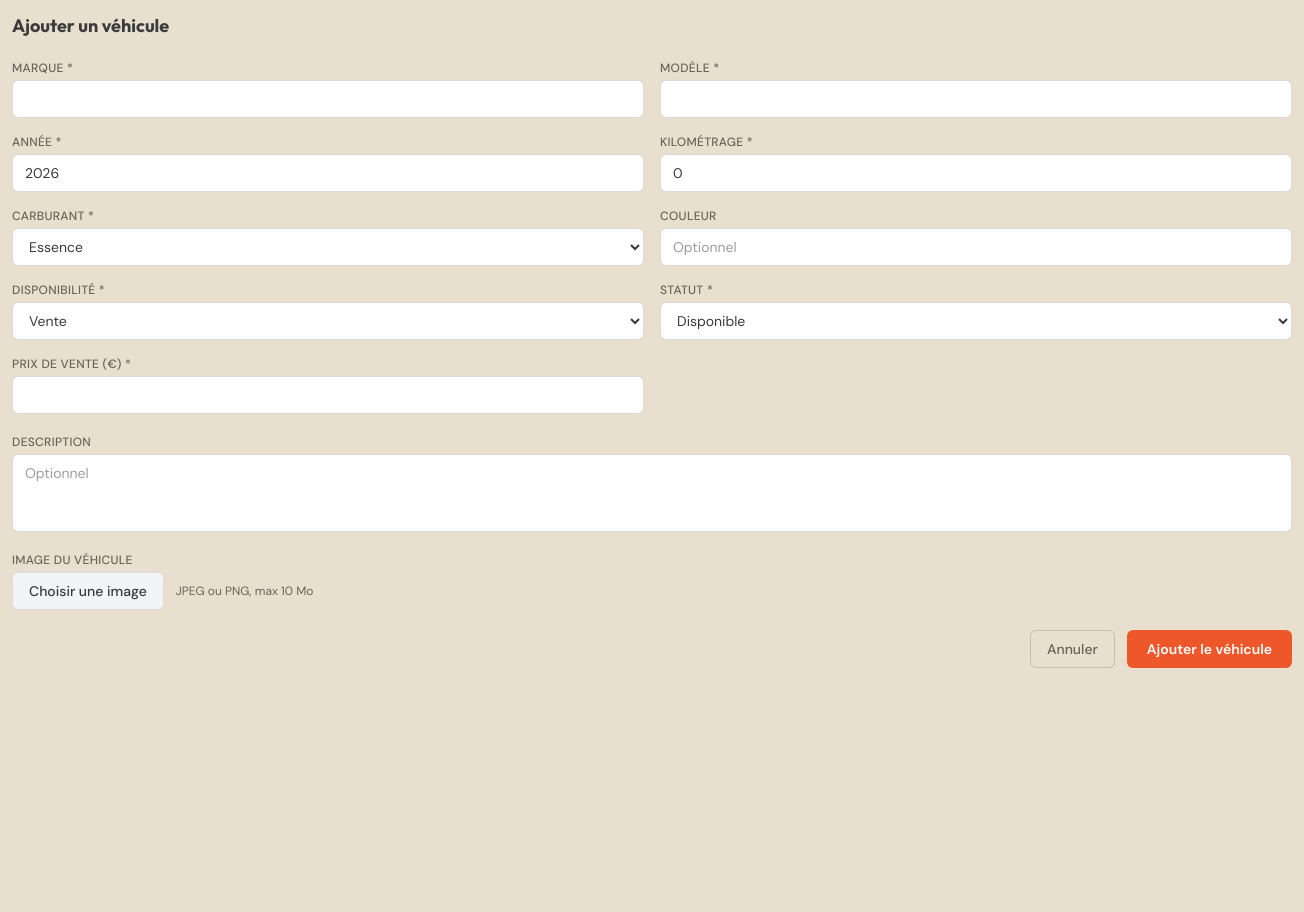
VehicleForm — mode création › affiche rentalPriceMonthly et masque salePrice quand RENTAL sélectionné
Select "Location" in the dropdown showing "Vente" below "Disponibilité *" at (328, 321), box top-left (12, 302), bottom-right (644, 340)
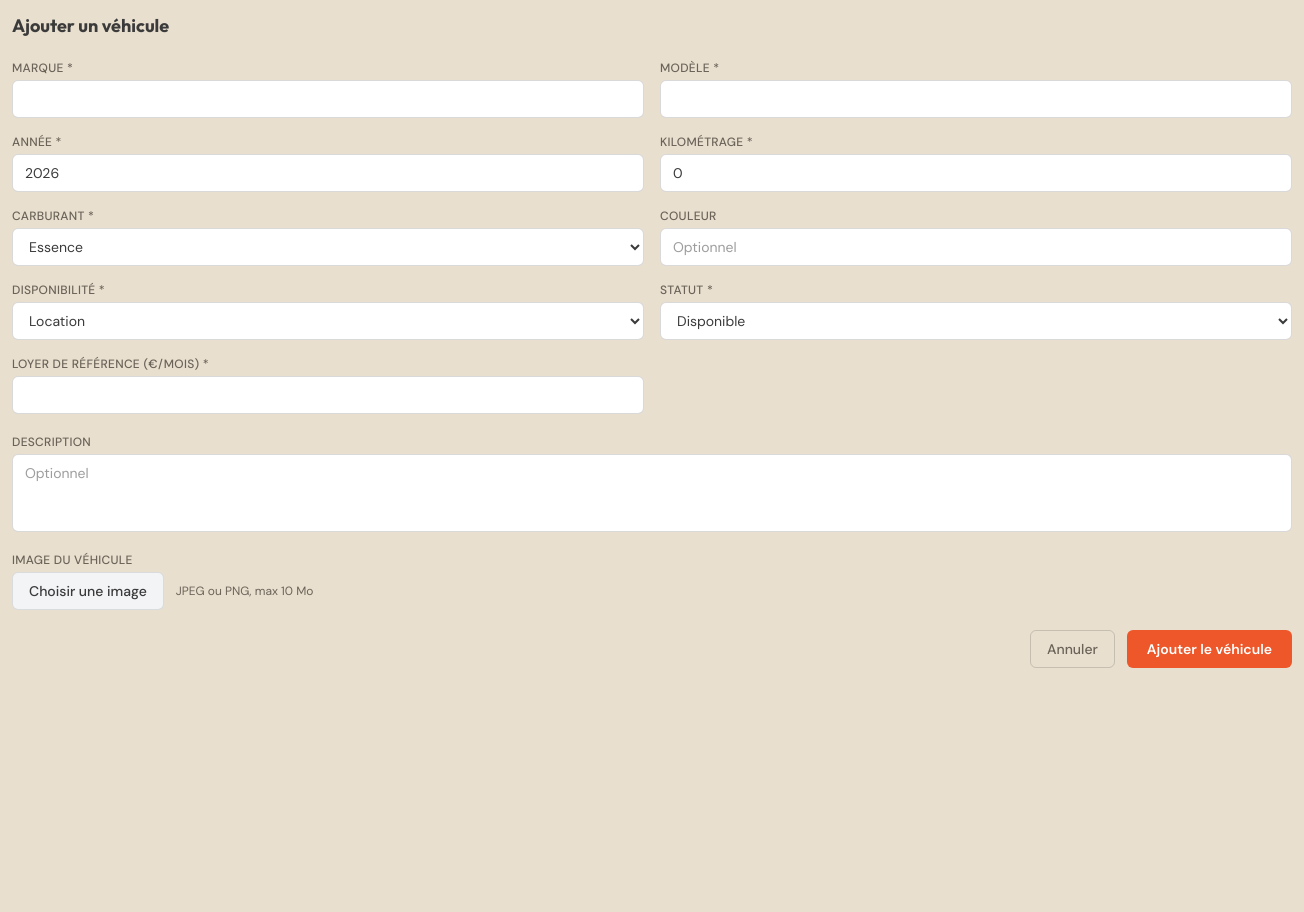
Result: the text "Prix de vente" is gone
Result: the text "Loyer de référence (€/mois) *" is shown at top-left (12, 356), bottom-right (209, 372)
